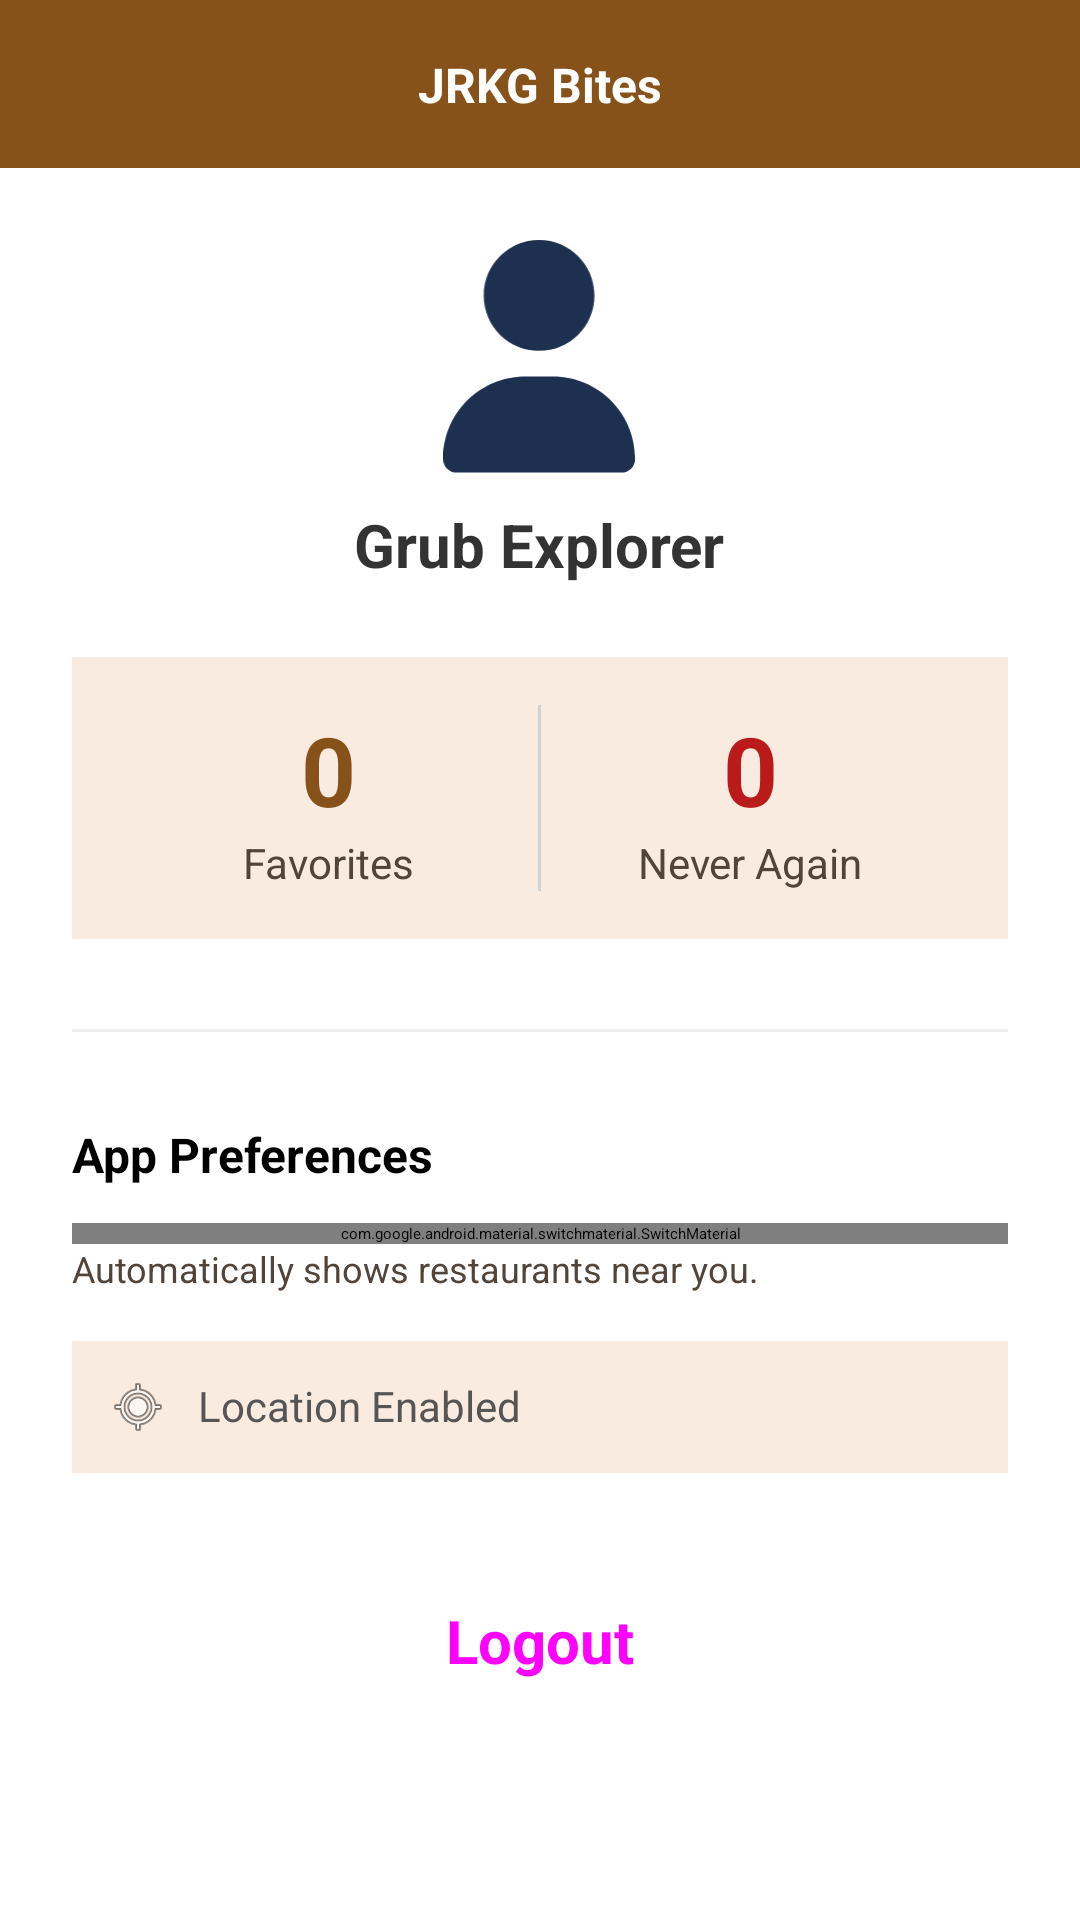

Named icons in this screenshot (1080x1920) and their bounding boxes, (x1, y1, x2, y2):
mylocation: (114, 1383, 162, 1431)
profile: (443, 240, 635, 473)
